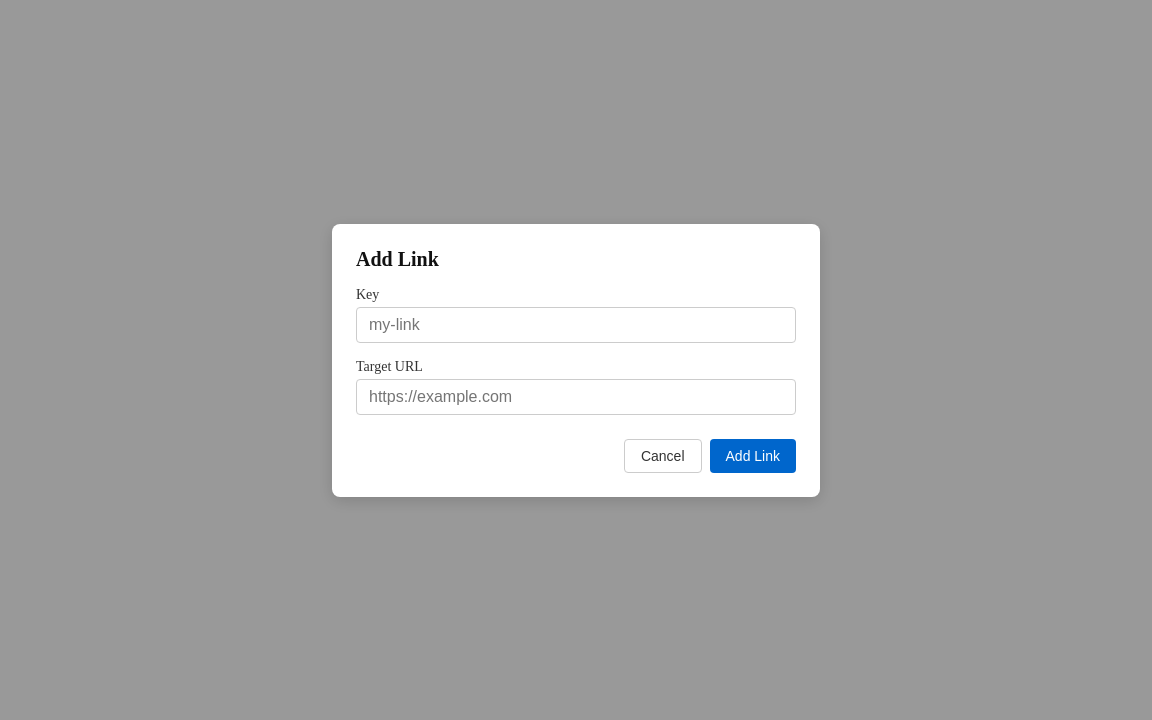
Test: AddLinkDialog › validates target URL must be valid
Type "test" into the field labelled "Key" at (576, 324), box 356,306 -> 796,342
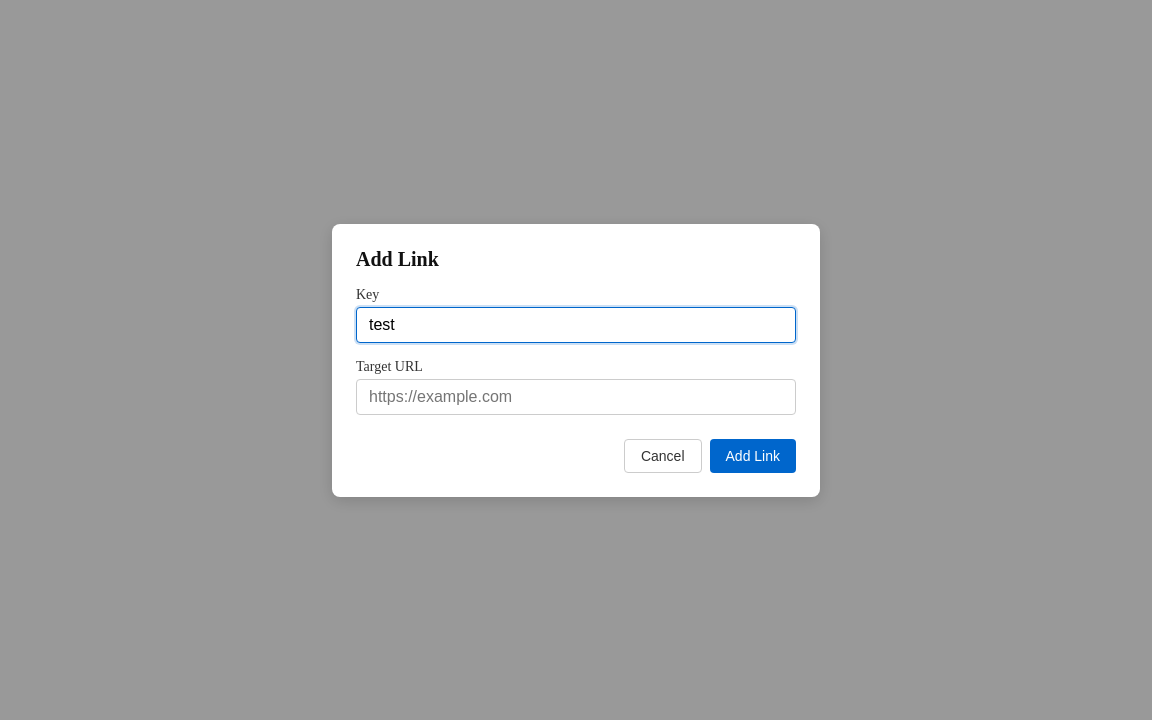
Type "not-a-url" into the field labelled "Target URL" at (576, 396), box 356,378 -> 796,414
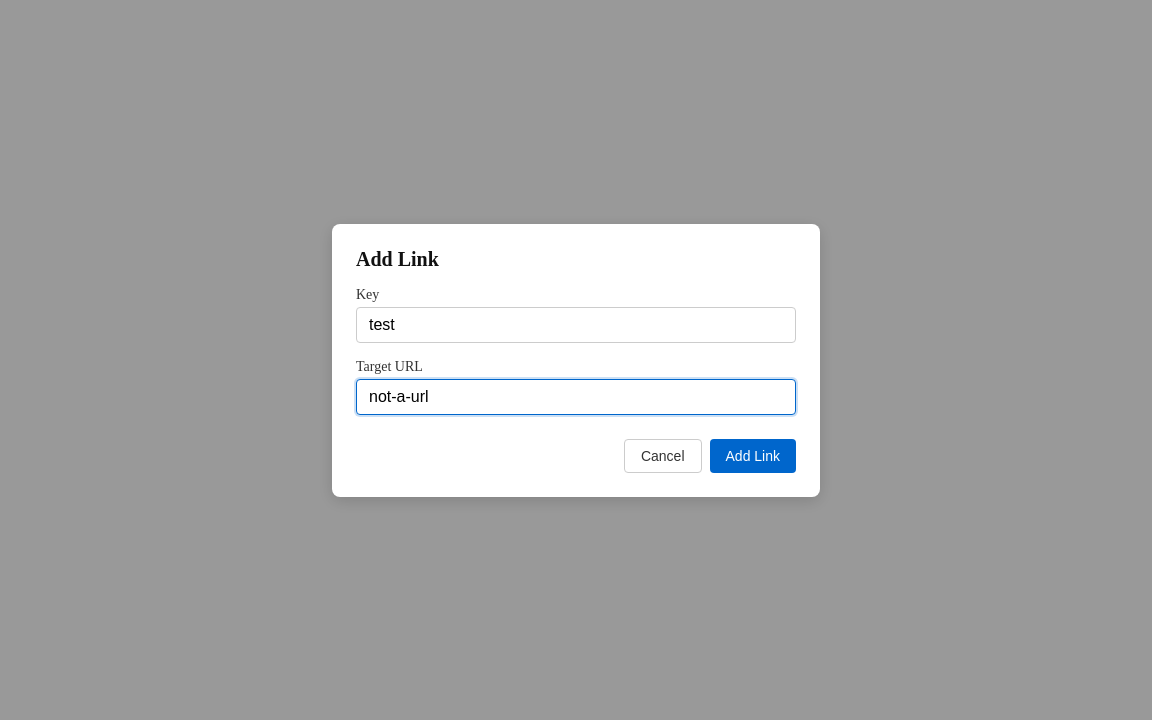
Click the button "Add Link" at (753, 456), box 710,438 -> 796,472
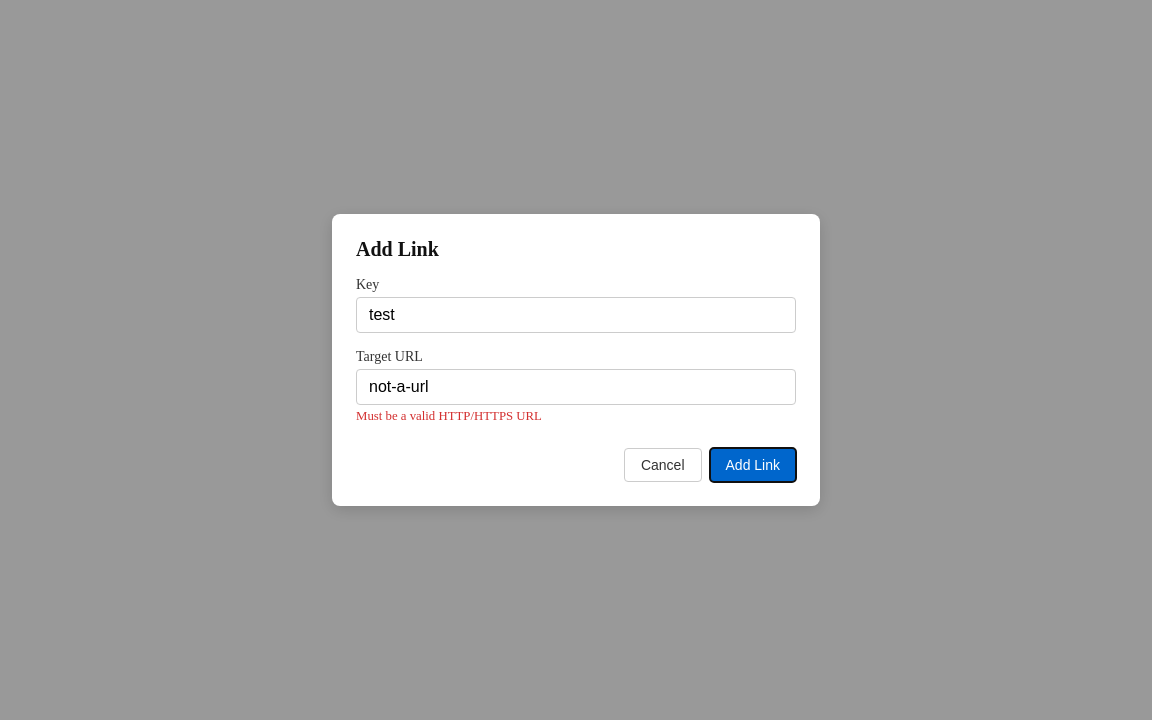
expect the text "Must be a valid HTTP/HTTPS URL" is shown: met, box 356,409 -> 542,423
